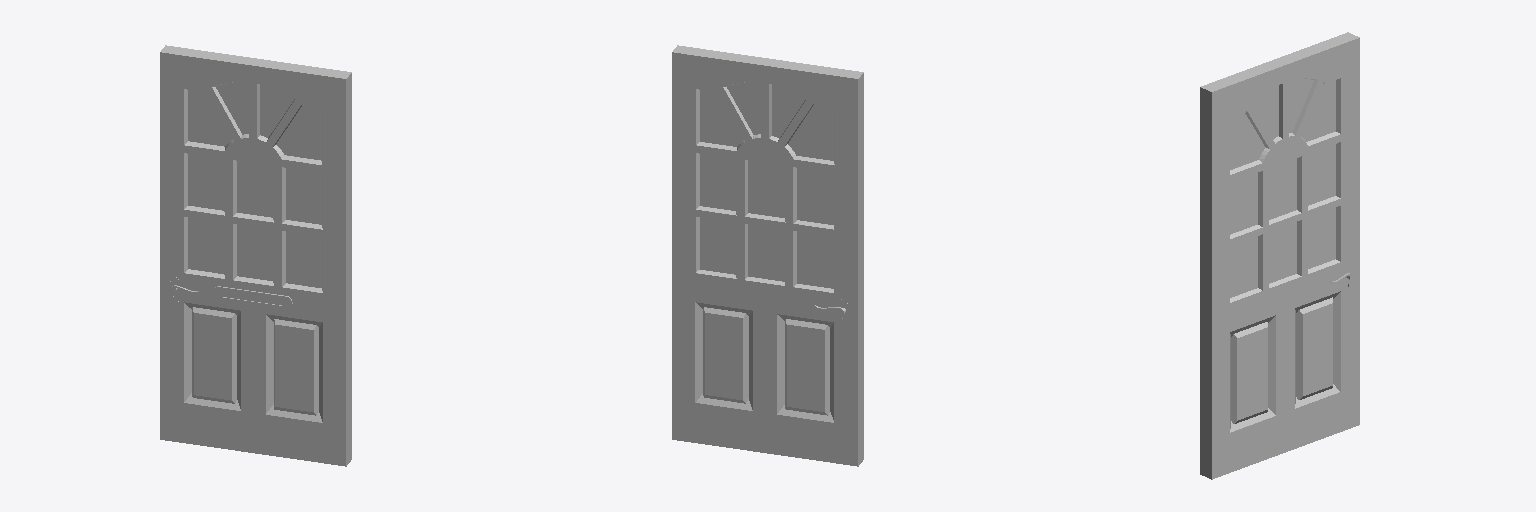
File: door_000010.obj
3 renders of one model, left to right at view 1: azimuth 30°, elevation 25°; view 2: azimuth 210°, elevation 25°; view 3: azimuth 270°, elevation 25°, orthographic.
Visible parts, largest first — view 1: Door.003; view 2: Door.003; view 3: Door.003.
Boxes of the visible parts, box(x1,y1,x2,y2) form: Door.003: box(160, 45, 351, 466); Door.003: box(672, 45, 863, 466); Door.003: box(1200, 32, 1359, 479).
Bounding box in the file's own units: 0.5353 × 1.6 × 0.5997.